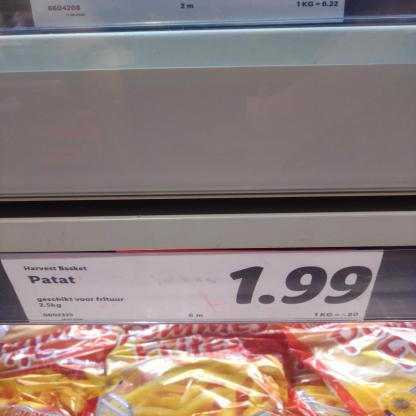prtg: (1, 250, 385, 325)
